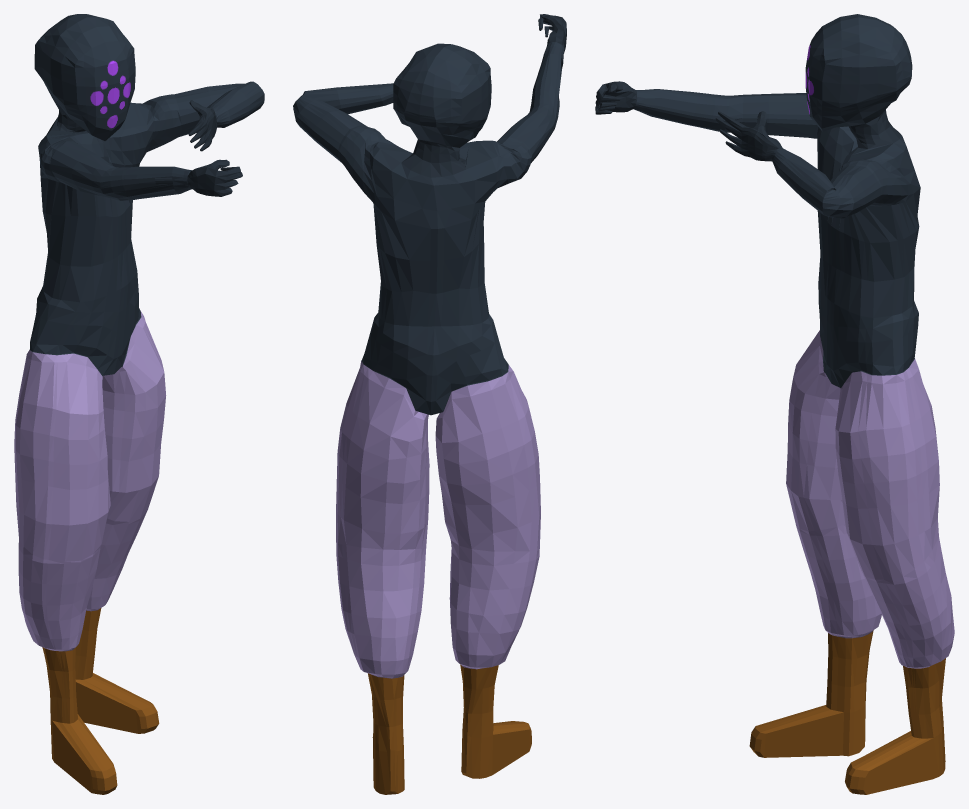
The model's file is Oracle_Attack_000029.obj.
The picture shows the model from 3 angles, left to right: view 1: azimuth 30°, elevation 25°; view 2: azimuth 150°, elevation 25°; view 3: azimuth 270°, elevation 25°; orthographic projection. The views are drawn at different scales.
Parts seen in each view (by area): view 1: Cube; view 2: Cube; view 3: Cube.
Part boxes in pixels (box(x1,y1,x2,y2)): Cube: box(14, 14, 264, 794); Cube: box(293, 14, 566, 794); Cube: box(595, 14, 954, 794).
Bounding box in the file's own units: 1.36 × 3.94 × 1.71.
